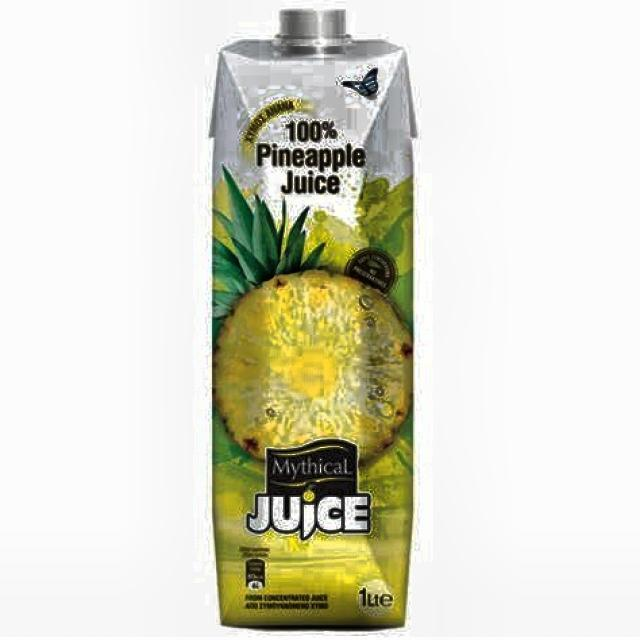cardboard: (208, 9, 416, 628)
